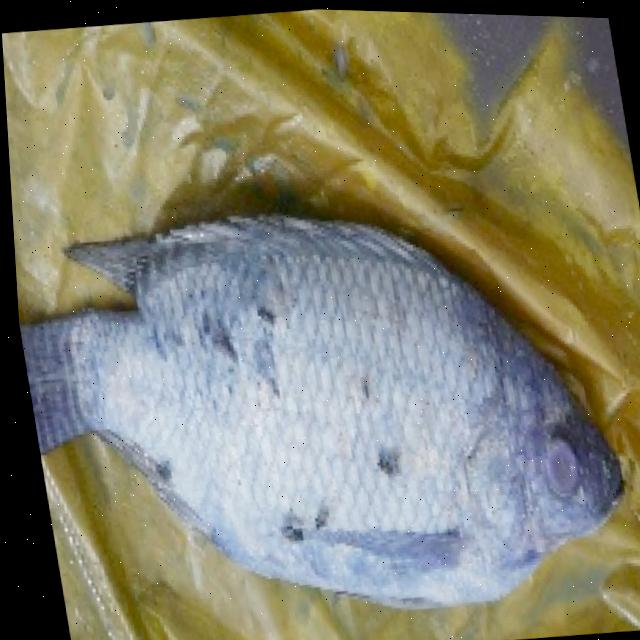Non-Fresh: (145, 256, 482, 526), (510, 404, 601, 515)
